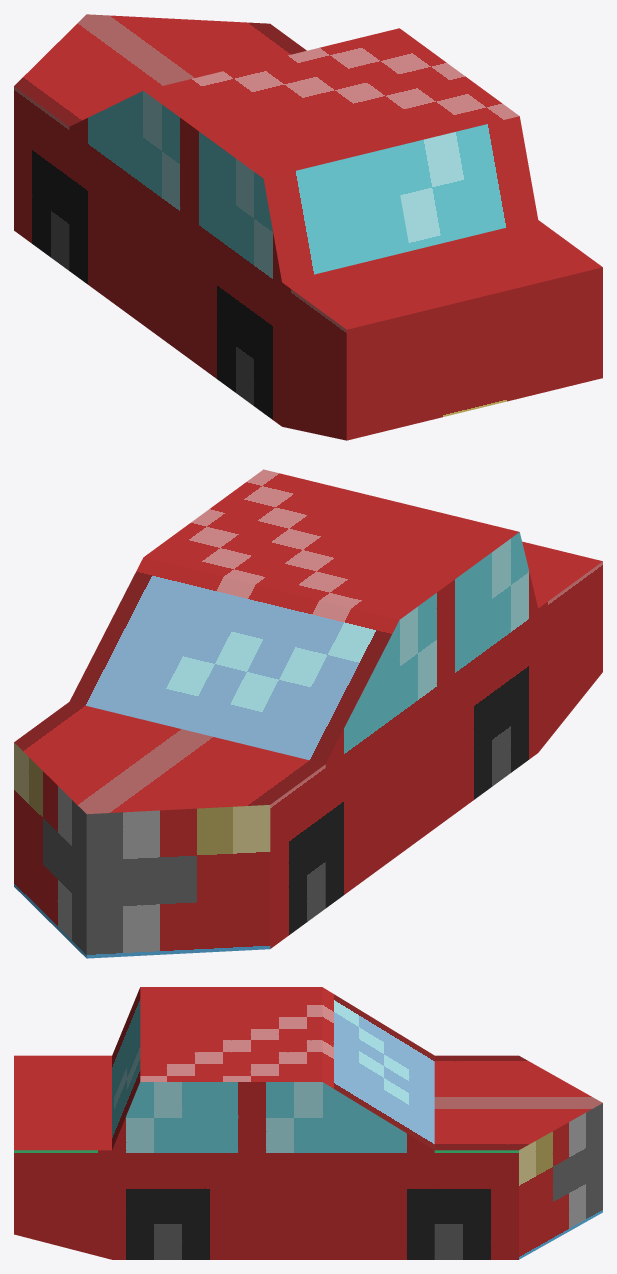
Rendered from car1.obj.
3 renders of one model, top to bottom at view 1: azimuth 30°, elevation 25°; view 2: azimuth 150°, elevation 25°; view 3: azimuth 270°, elevation 25°, orthographic. The views are drawn at different scales.
Parts seen in each view (by area): view 1: cube; view 2: cube; view 3: cube.
Part boxes in pixels (box(x1,y1,x2,y2)): cube: box(14, 14, 602, 440); cube: box(14, 469, 602, 958); cube: box(14, 987, 602, 1259).
Size of the model in its own units: 0.5 by 0.4375 by 1.31.
